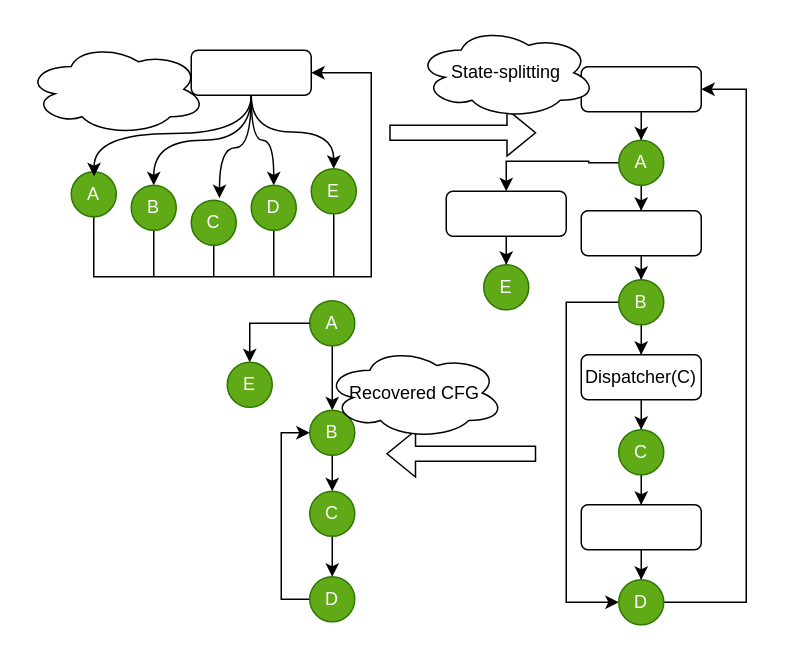
The diagram is 785 pixels wide and 651 high, and some of its shapes have lost their labels. The centre of each missing label's shape, as x and y in pixels:
Dispatcher: the point at 250,72
Dispatcher(A): the point at 640,88
Dispatcher(B): the point at 640,232
Dispatcher(D): the point at 640,526
Dispatcher(E): the point at 505,213
Flattened CFG: the point at 115,88
